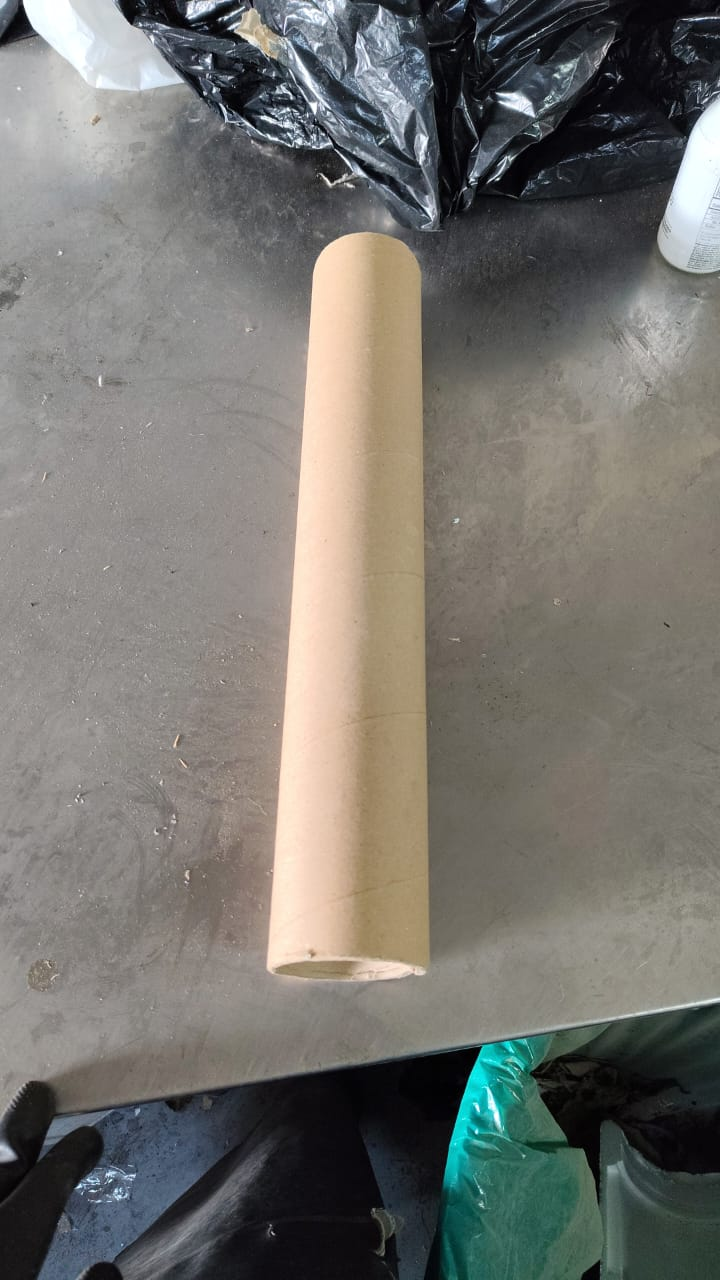Carton: (266, 230, 425, 984)
